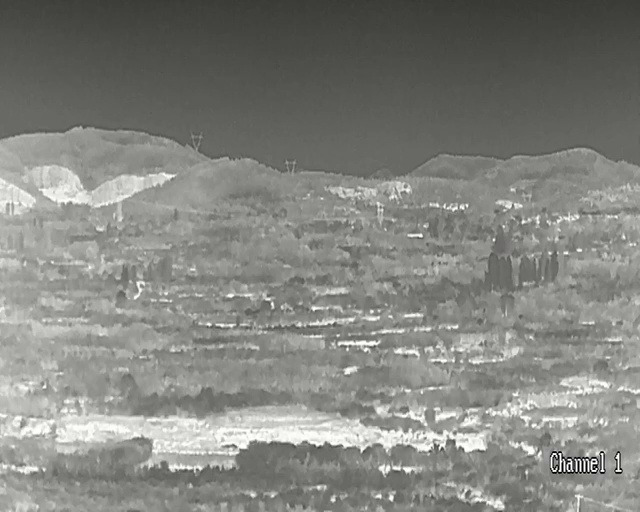uav: (162, 172, 174, 177)
